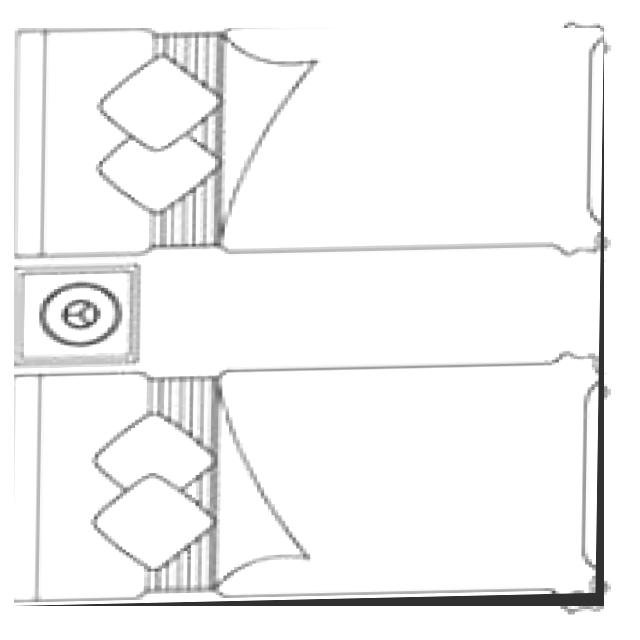bed: (14, 28, 604, 606)
